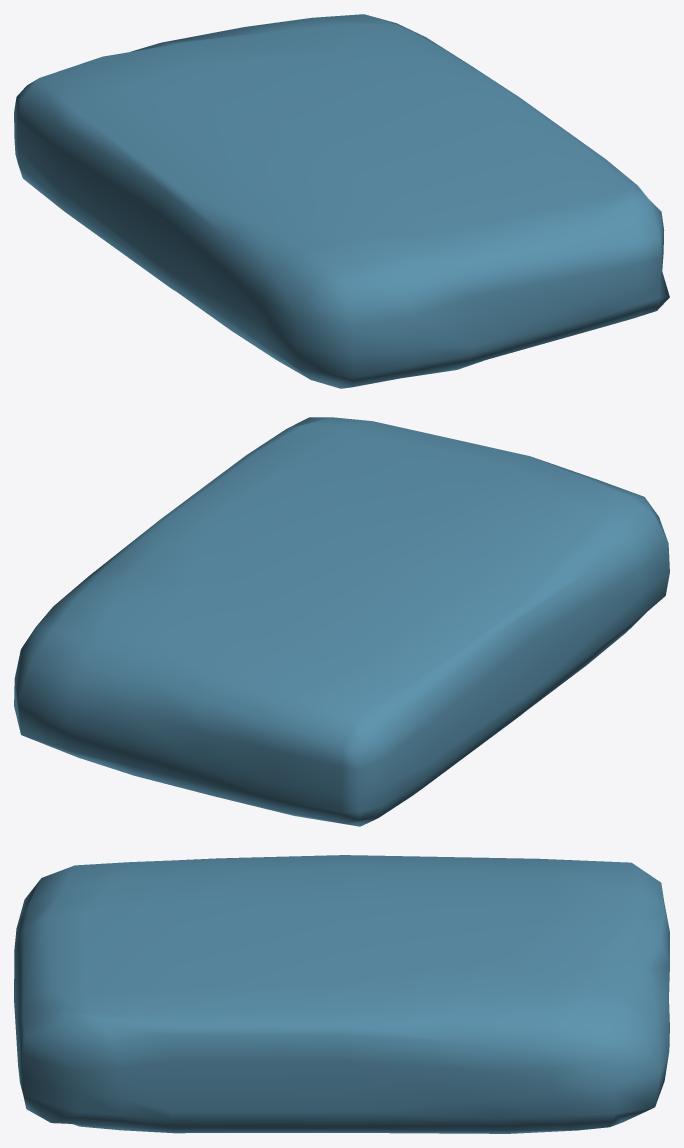
Rendered from GJ_Decor_Cement.fbx.
The picture shows the model from 3 angles, top to bottom: view 1: azimuth 30°, elevation 25°; view 2: azimuth 150°, elevation 25°; view 3: azimuth 270°, elevation 25°; orthographic projection. The views are drawn at different scales.
Parts seen in each view (by area): view 1: GJ_Decor_Cement; view 2: GJ_Decor_Cement; view 3: GJ_Decor_Cement.
Part boxes in pixels (x1=…): GJ_Decor_Cement: x1=14, y1=14, x2=669, y2=388; GJ_Decor_Cement: x1=14, y1=417, x2=669, y2=826; GJ_Decor_Cement: x1=14, y1=855, x2=669, y2=1133.
Bounding box in the file's own units: 3.58 × 1.32 × 5.35.
